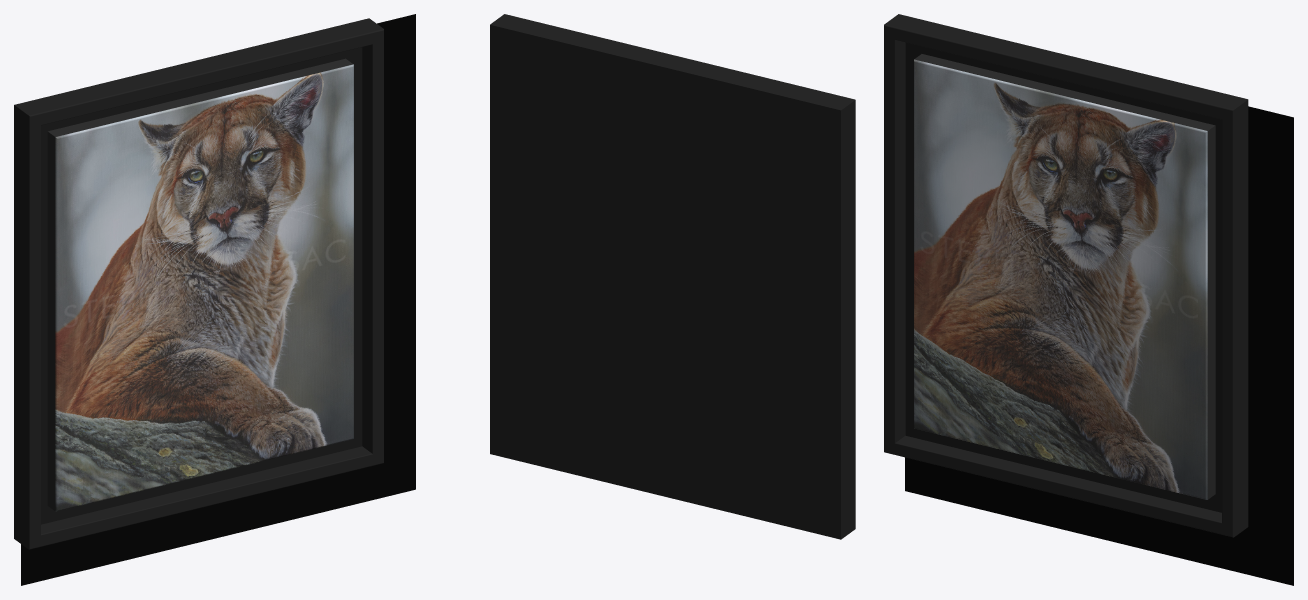
Rendered from tableau-peinture-puma-classique-b3b7680b.glb.
3 renders of one model, left to right at view 1: azimuth 30°, elevation 25°; view 2: azimuth 150°, elevation 25°; view 3: azimuth 330°, elevation 25°, orthographic.
Visible parts, largest first — view 1: Painting; view 2: Painting; view 3: Painting.
Boxes of the visible parts, x1,y1,x2,y2 form: Painting: (14, 14, 415, 585); Painting: (490, 14, 855, 539); Painting: (884, 14, 1293, 585).
Size of the model in its own units: 0.606 by 0.696 by 0.04.
Materials: 5 (3 with a texture image).
